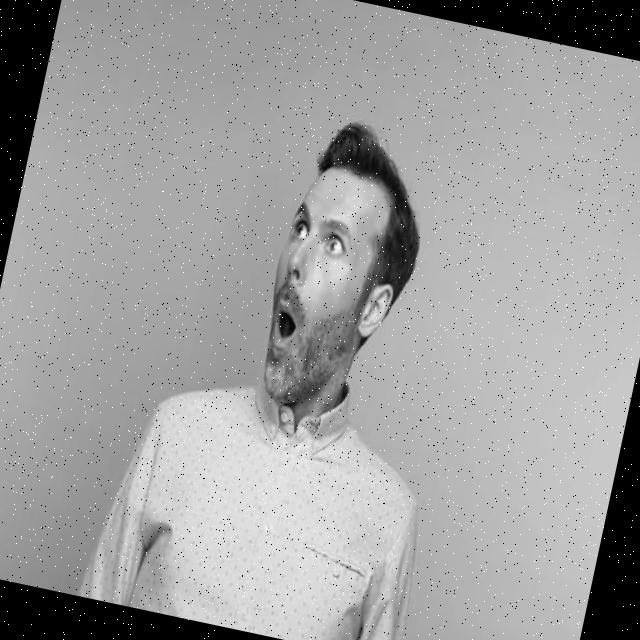Surprised: (251, 162, 389, 414)
